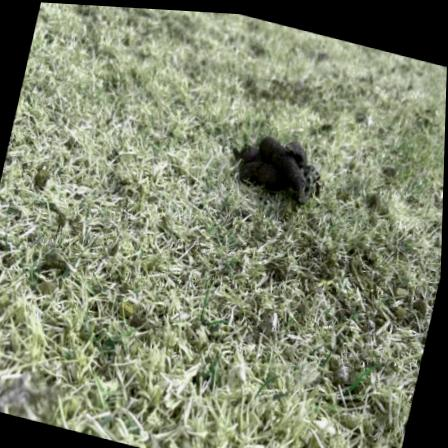dog-poop: (232, 114, 327, 201)
